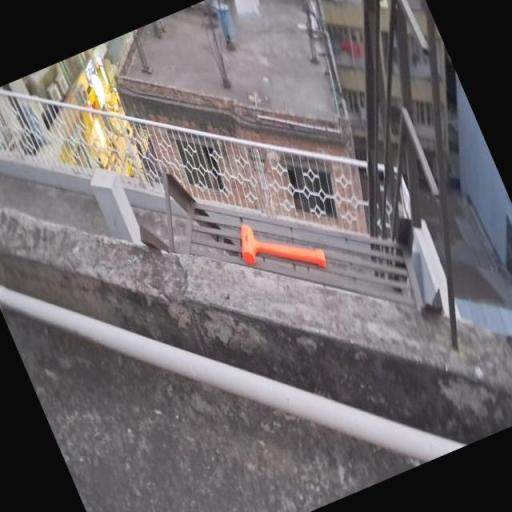mallet: (232, 200, 330, 296)
